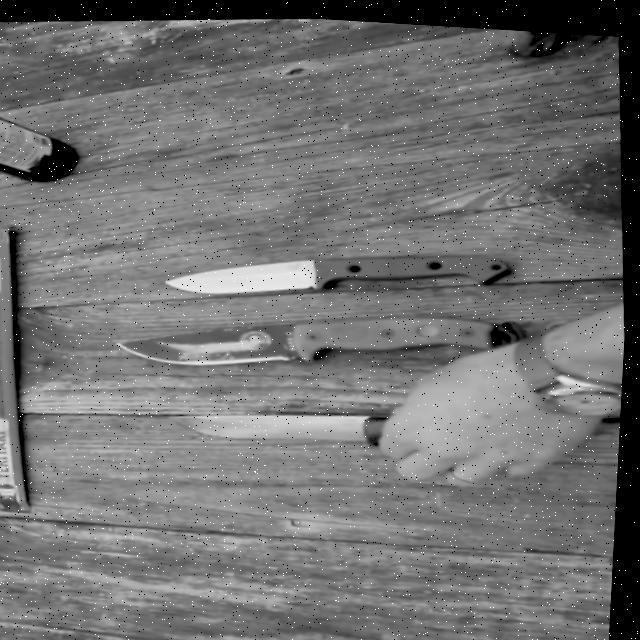knife: (112, 286, 535, 383), (161, 231, 518, 309), (167, 396, 397, 459)
